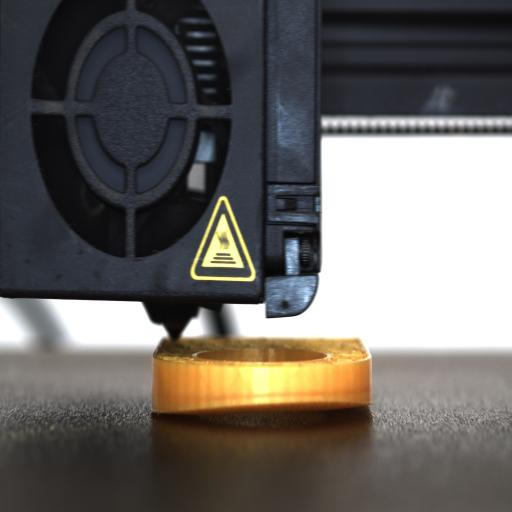warp: (159, 388, 368, 425)
